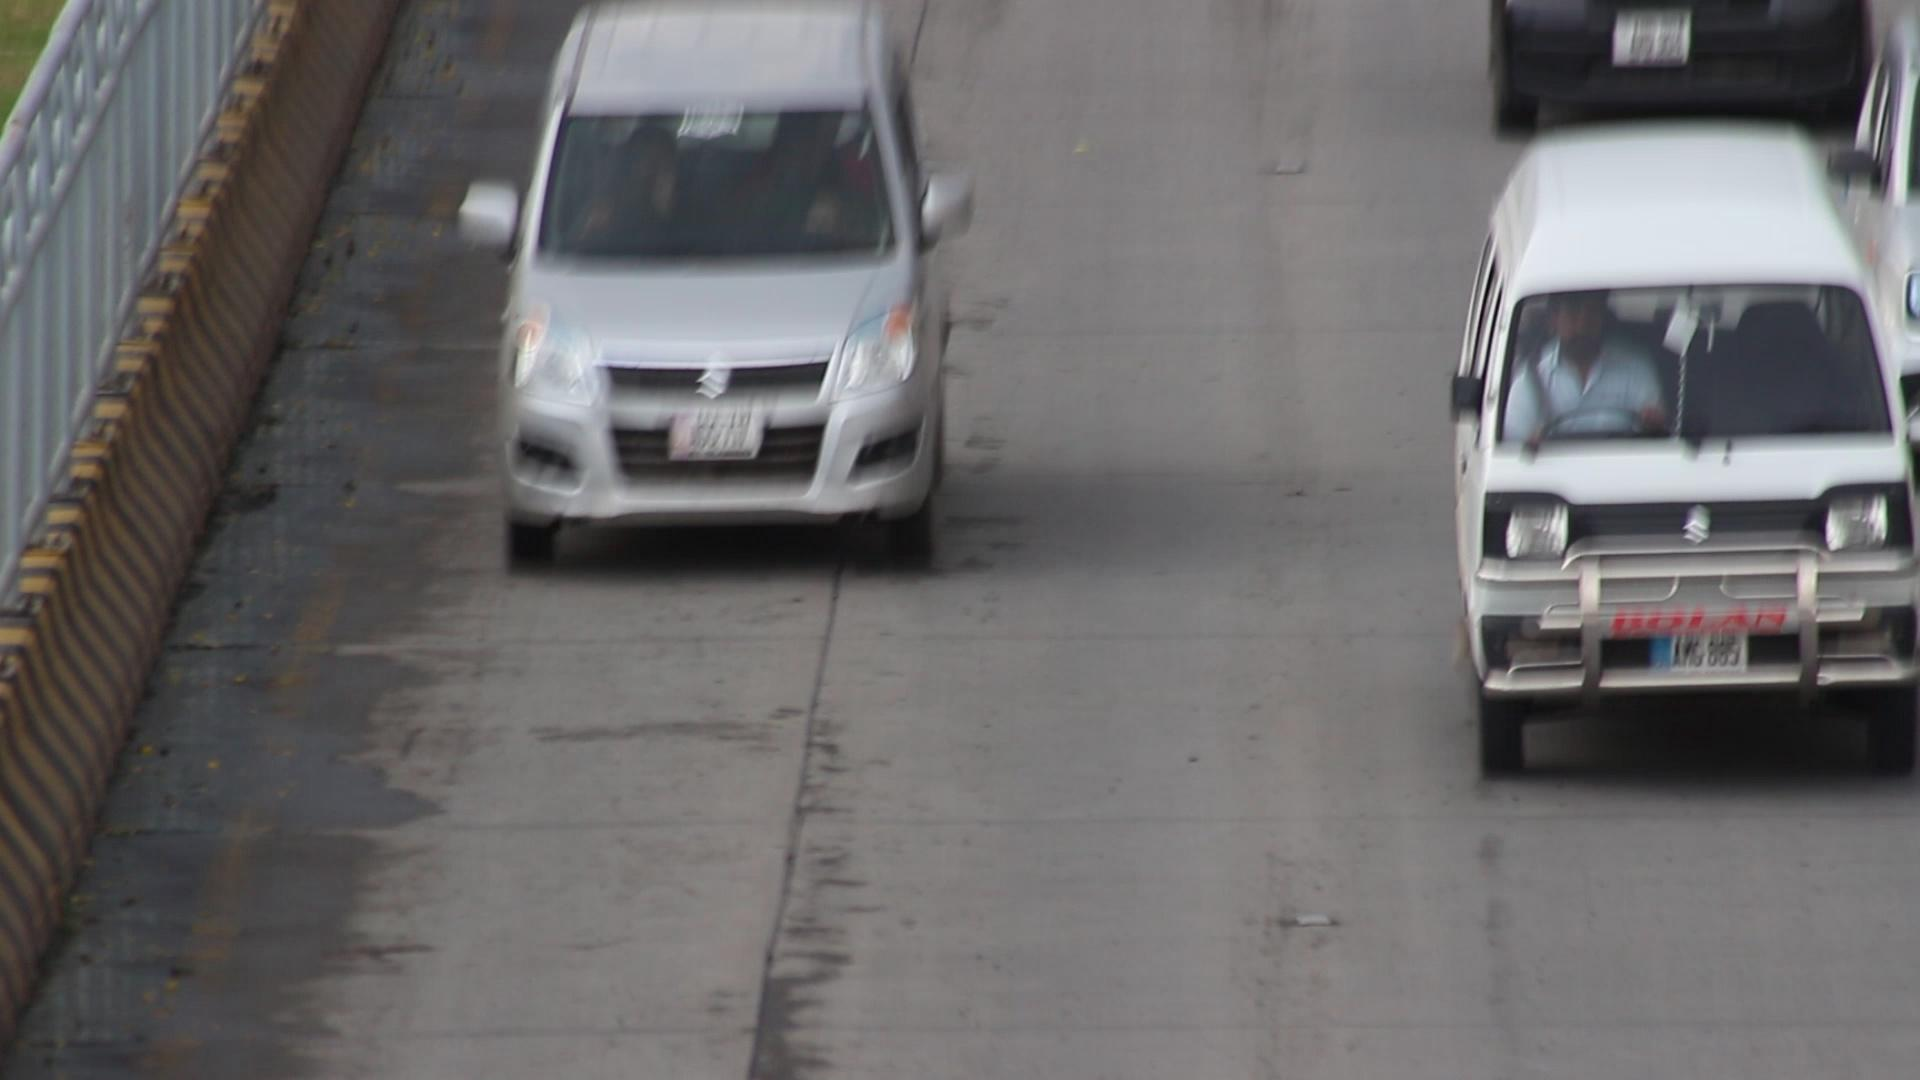windshield: (1490, 266, 1896, 463), (524, 94, 907, 273)
